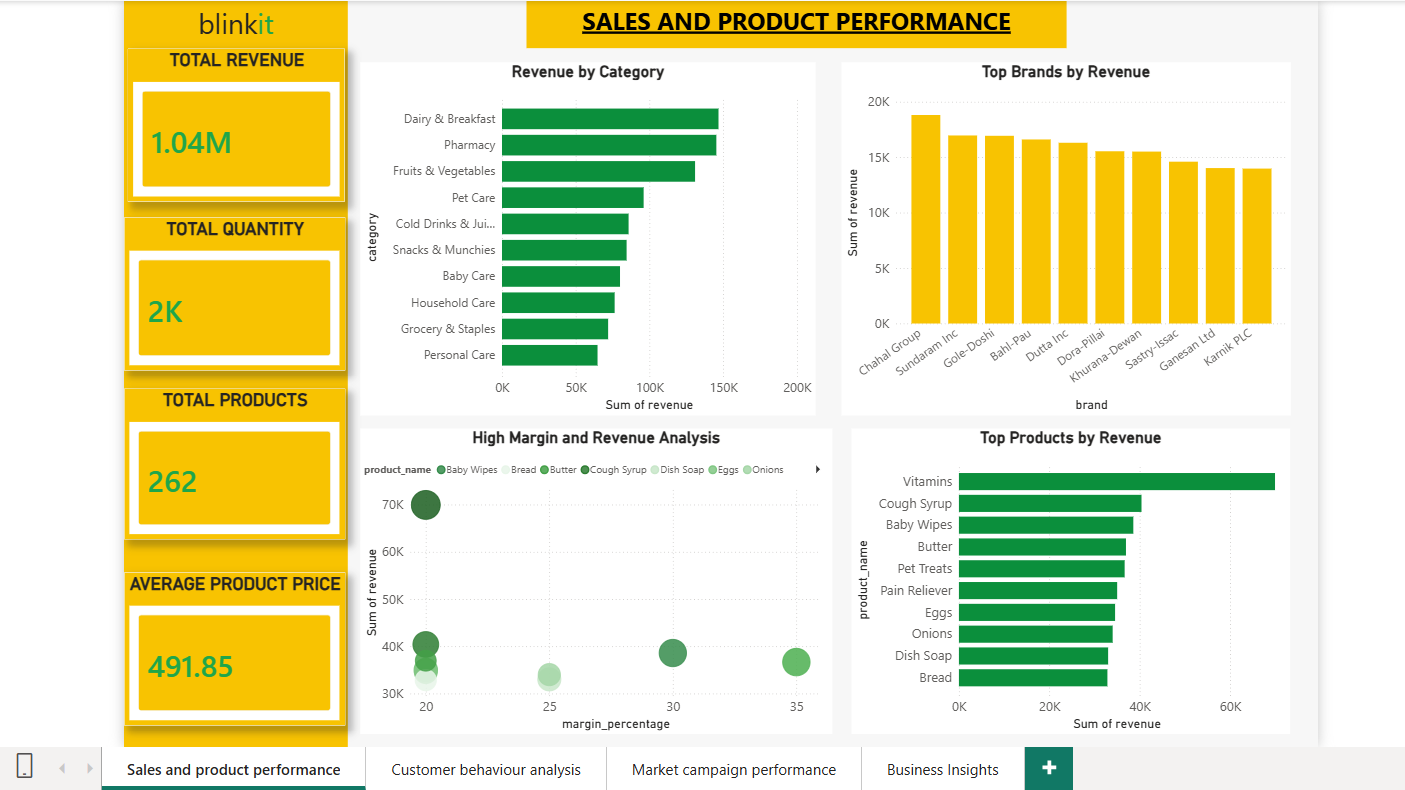

The dashboard page shown, as its layout file describes it:
{"tool":"powerbi","page":{"name":"Sales and product performance","canvas":[1600,1000],"ordinal":0},"visuals":[{"type":"textbox","box":[540.3,0,723.8,63.5],"z":0},{"type":"textbox","box":[0,0,300.2,1000],"z":1000},{"type":"cardVisual","title":"TOTAL REVENUE","fields":{"Data":["Sum(blinkit_sales_analysis cleaned_order_item.revenue)"]},"box":[5.1,63.5,291.6,205.8],"z":2000},{"type":"cardVisual","title":"TOTAL QUANTITY","fields":{"Data":["Sum(blinkit_sales_analysis cleaned_order_item.quantity)"]},"box":[0,289.9,296.7,205.8],"z":3000},{"type":"cardVisual","title":"TOTAL PRODUCTS","fields":{"Data":["Count(blinkit_sales_analysis cleaned_order_item.product_id)"]},"box":[0,519.7,296.7,202.4],"z":4000},{"type":"cardVisual","title":"AVERAGE PRODUCT PRICE","fields":{"Data":["Avg(blinkit_sales_analysis cleaned_order_item.unit_price)"]},"box":[0,765,296.7,205.8],"z":5000},{"type":"clusteredBarChart","title":"Top Products by Revenue","fields":{"Y":["Sum(blinkit_sales_analysis cleaned_order_item.revenue)"],"Category":["blinkit_sales_analysis product.product_name"]},"box":[976,572.9,588.3,409.9],"z":6000},{"type":"columnChart","title":"Top Brands by Revenue","fields":{"Category":["blinkit_sales_analysis product.brand"],"Y":["Sum(blinkit_sales_analysis cleaned_order_item.revenue)"]},"box":[962.3,82.3,602.1,473.4],"z":7000},{"type":"clusteredBarChart","title":" Revenue by Category","fields":{"Category":["blinkit_sales_analysis product.category"],"Y":["Sum(blinkit_sales_analysis cleaned_order_item.revenue)"]},"box":[317.3,82.3,610.6,473.4],"z":8000},{"type":"scatterChart","title":"High Margin and Revenue Analysis","fields":{"Series":["blinkit_sales_analysis product.product_name"],"X":["blinkit_sales_analysis product.margin_percentage"],"Y":["Sum(blinkit_sales_analysis cleaned_order_item.revenue)"],"Size":["Sum(blinkit_sales_analysis cleaned_order_item.quantity)"]},"box":[317.3,572.9,632.9,409.9],"z":9000}]}

Visuals, with their boxes on the page's 1600x1000 design canvas (x1, y1, x2, y2). These are canvas units, not pixel positions in the 1405x790 screenshot, which may show the page scaled, cropped or inside an application window:
textbox: {"left": 540, "top": 0, "right": 1264, "bottom": 64}
textbox: {"left": 0, "top": 0, "right": 300, "bottom": 1000}
"TOTAL REVENUE" cardVisual: {"left": 5, "top": 64, "right": 297, "bottom": 269}
"TOTAL QUANTITY" cardVisual: {"left": 0, "top": 290, "right": 297, "bottom": 496}
"TOTAL PRODUCTS" cardVisual: {"left": 0, "top": 520, "right": 297, "bottom": 722}
"AVERAGE PRODUCT PRICE" cardVisual: {"left": 0, "top": 765, "right": 297, "bottom": 971}
"Top Products by Revenue" clusteredBarChart: {"left": 976, "top": 573, "right": 1564, "bottom": 983}
"Top Brands by Revenue" columnChart: {"left": 962, "top": 82, "right": 1564, "bottom": 556}
" Revenue by Category" clusteredBarChart: {"left": 317, "top": 82, "right": 928, "bottom": 556}
"High Margin and Revenue Analysis" scatterChart: {"left": 317, "top": 573, "right": 950, "bottom": 983}
